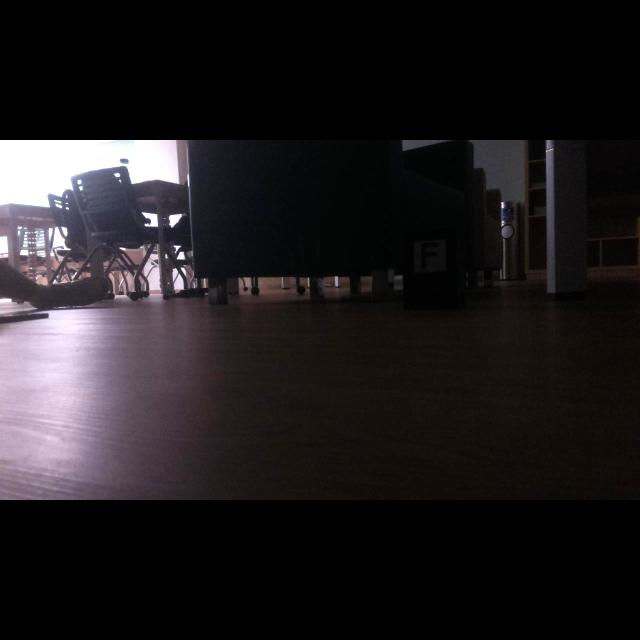F: (421, 242, 438, 270)
